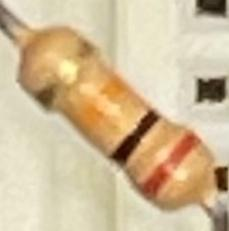Brown: (105, 105, 168, 172)
Orange: (66, 71, 132, 143)
Red: (136, 129, 207, 204)
Side-Gold: (30, 36, 105, 115)
